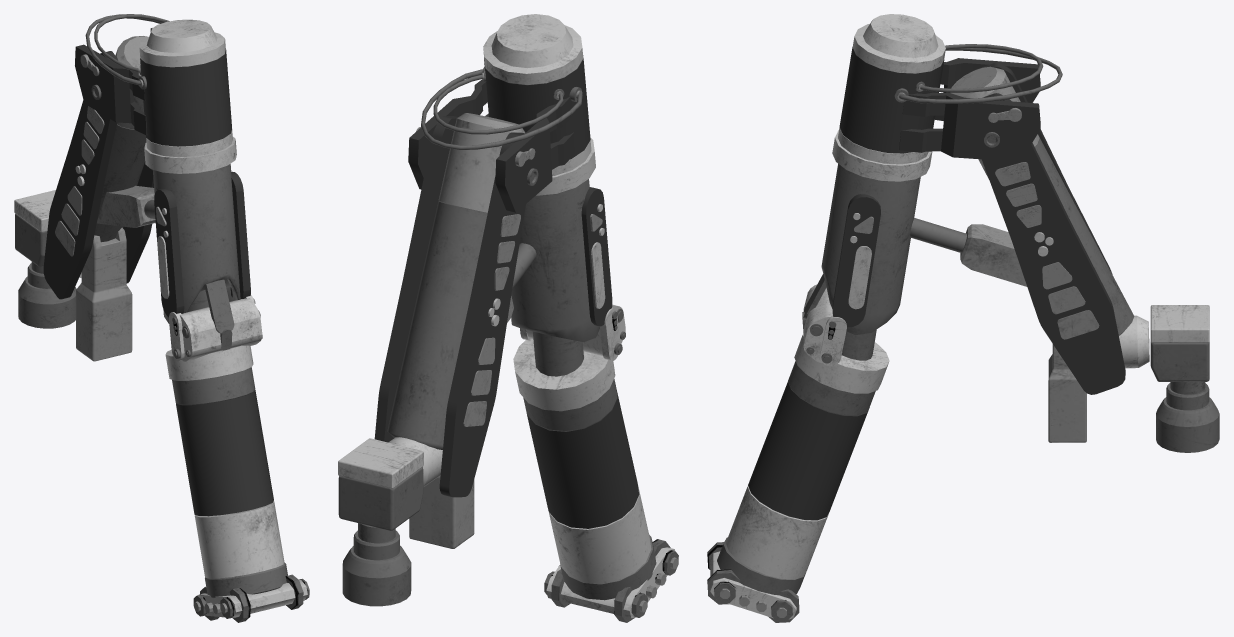
The model's file is jxb_3.fbx.
3 views of the same model, side by side, from view 1: azimuth 30°, elevation 25°; view 2: azimuth 150°, elevation 25°; view 3: azimuth 270°, elevation 25° (orthographic). The views are drawn at different scales.
Parts seen in each view (by area): view 1: polySurface257; view 2: polySurface257; view 3: polySurface257.
Part boxes in pixels (box(x1,y1,x2,y2)): polySurface257: box(14, 14, 309, 622); polySurface257: box(338, 14, 678, 622); polySurface257: box(707, 14, 1219, 622).
Size of the model in its own units: 1.13 by 5.6 by 4.46.
1 material, 1 textured.
